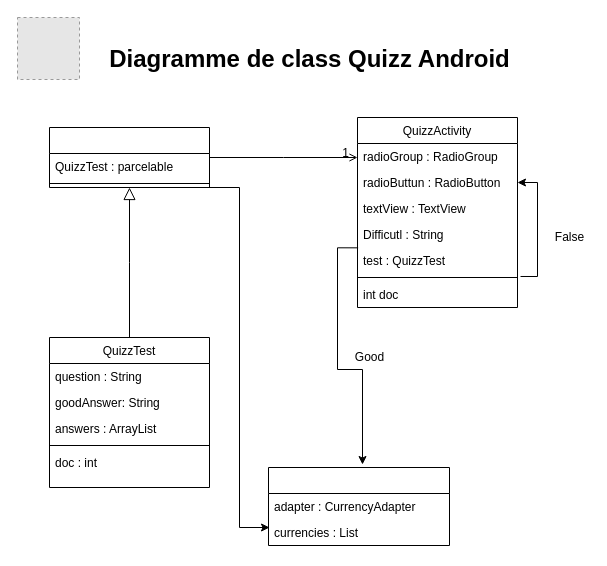
The diagram is 607 pixels wide and 566 high, and some of its shapes have lost their labels. Grey dashed boxes stand in for pictures. Here are the shapes that lost their labels. From the top down, the box of each, then its label:
(48, 126, 210, 188): MainActivity
(268, 466, 450, 546): CurrencListeActivity
